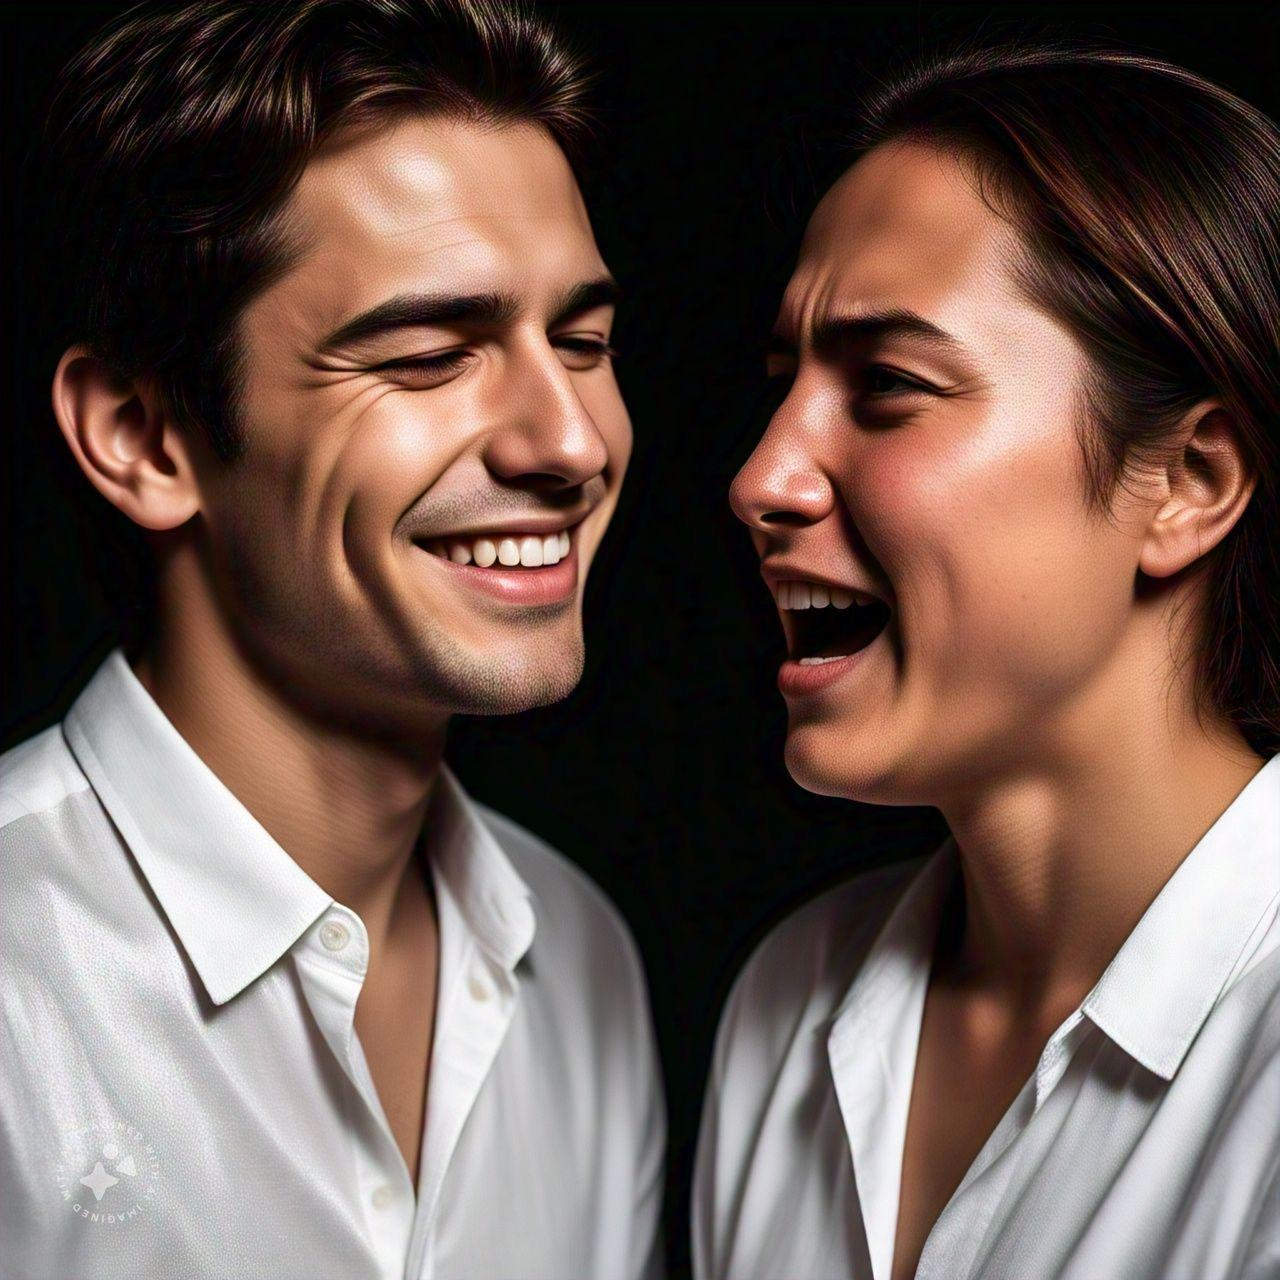feliz: (142, 66, 622, 710)
surpreso: (738, 98, 1210, 806)
